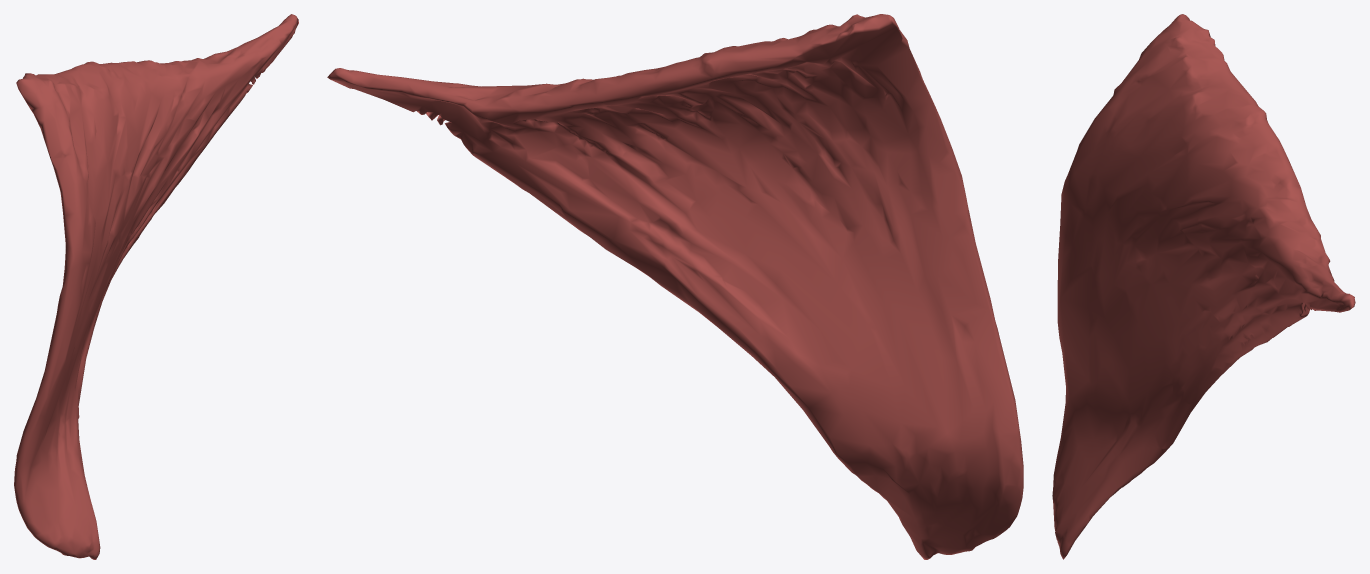
File: FMA46807.glb
The picture shows the model from 3 angles, left to right: view 1: azimuth 30°, elevation 25°; view 2: azimuth 150°, elevation 25°; view 3: azimuth 270°, elevation 25°; orthographic projection. The views are drawn at different scales.
Parts seen in each view (by area): view 1: FMA46807; view 2: FMA46807; view 3: FMA46807.
Boxes of the visible parts, x1,y1,x2,y2 form: FMA46807: [14, 14, 298, 559]; FMA46807: [327, 14, 1023, 559]; FMA46807: [1052, 14, 1355, 559].
Bounding box in the file's own units: 0.0262 × 0.028 × 0.0145.
